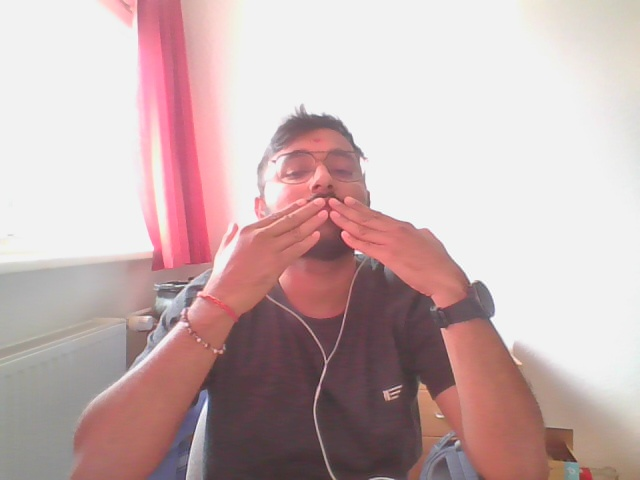ThankYou: (205, 196, 466, 304)
